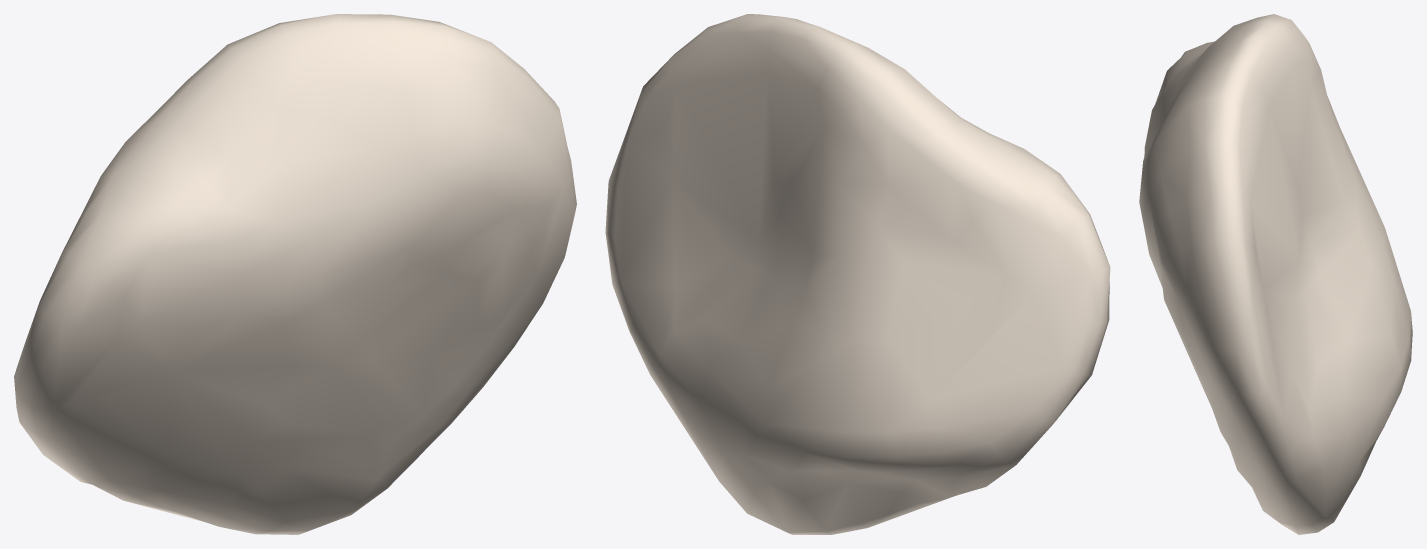
The model's file is left_patella.glb.
3 views of the same model, side by side, from view 1: azimuth 30°, elevation 25°; view 2: azimuth 150°, elevation 25°; view 3: azimuth 270°, elevation 25° (orthographic). The views are drawn at different scales.
Visible parts, largest first — view 1: Patella.r; view 2: Patella.r; view 3: Patella.r.
Boxes of the visible parts, <box> form: Patella.r: <box>14,14,576,534</box>; Patella.r: <box>605,14,1110,534</box>; Patella.r: <box>1139,14,1412,534</box>.
Bounding box in the file's own units: 0.043 × 0.0404 × 0.0205.
